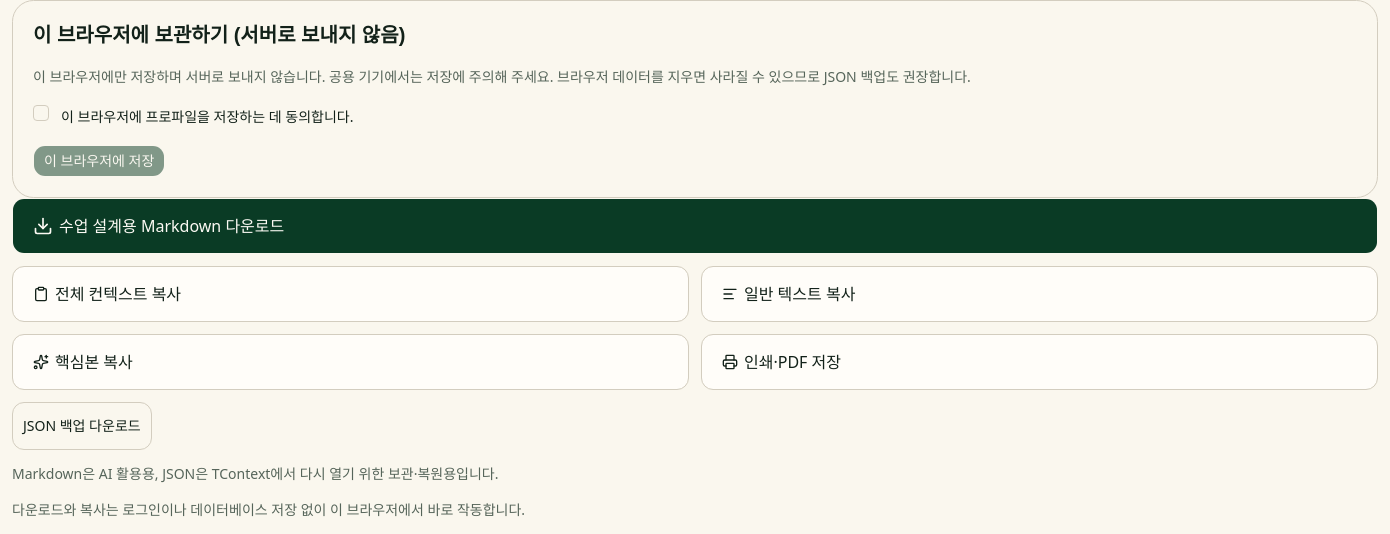
Test: requires opt-in and saves with an independent baseline
The image size is (1390, 534).
Check: the button "이 브라우저에 저장" is disabled, box x1=33 y1=145 x2=165 y2=177
Click the checkbox named "프로파일을 저장하는 데 동의".
click(41, 113)  # box x1=33 y1=105 x2=49 y2=121
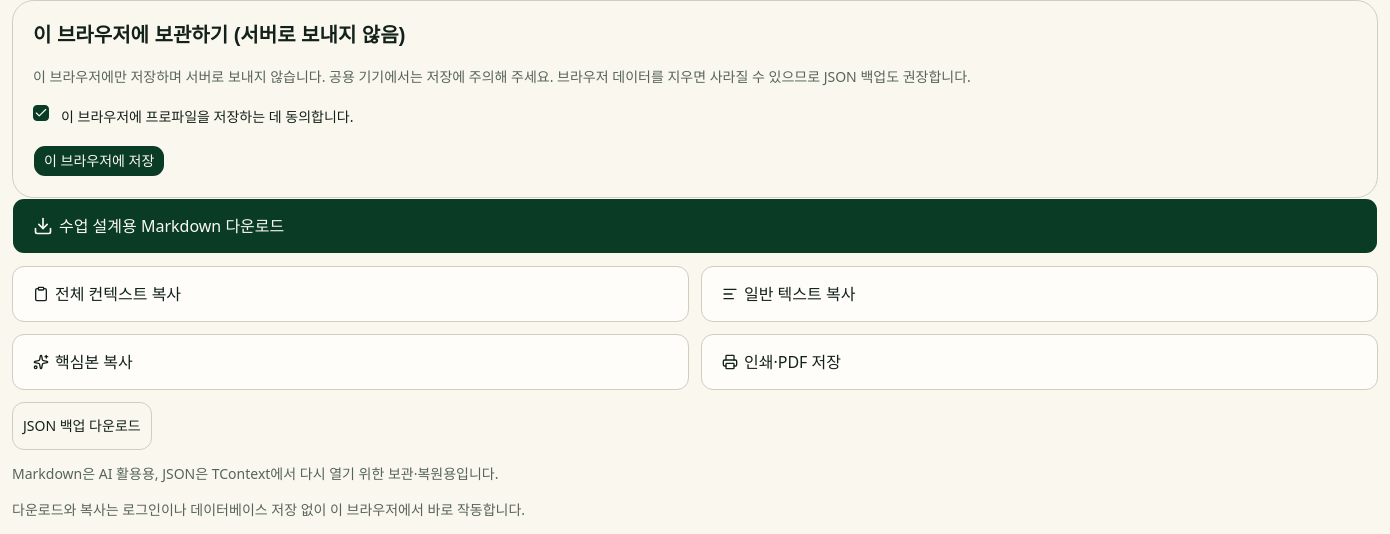
Click the button "이 브라우저에 저장".
click(99, 161)  # box x1=33 y1=145 x2=165 y2=177
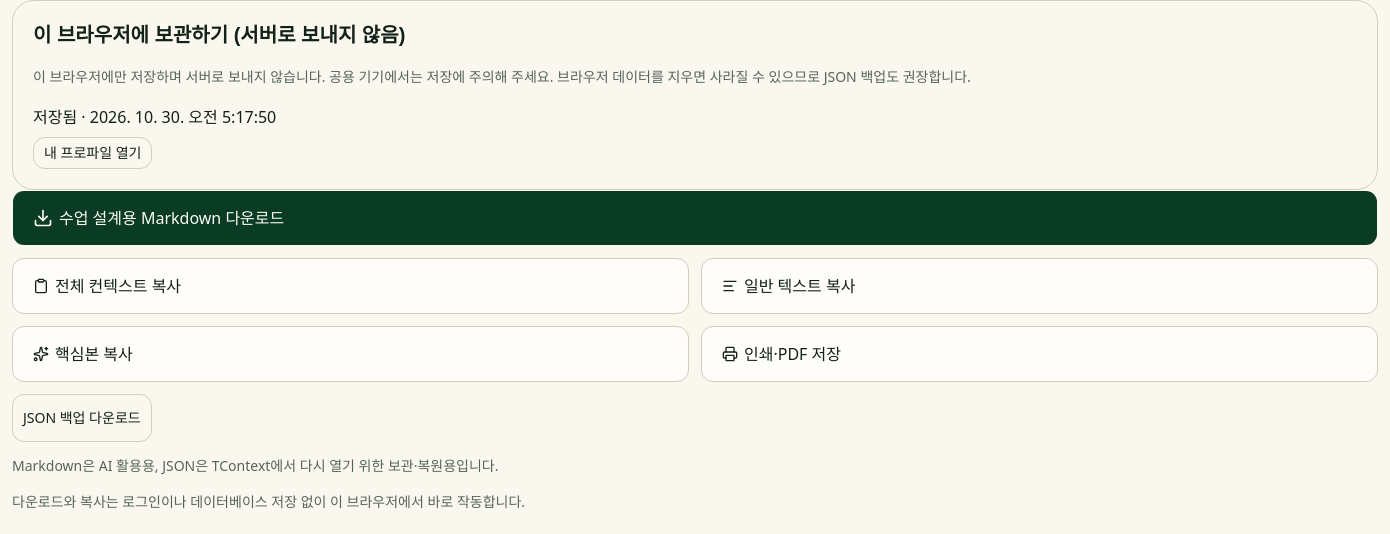
Check: the link "내 프로파일 열기" is shown, box x1=33 y1=137 x2=152 y2=169
